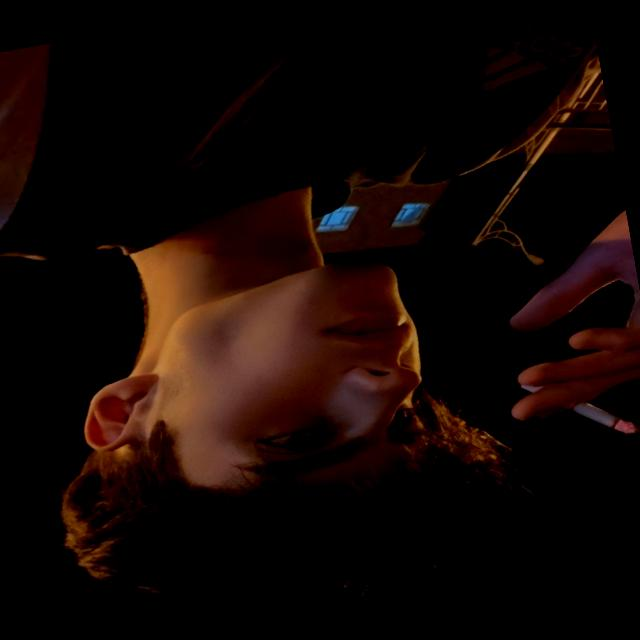smoke: (460, 295, 640, 473)
